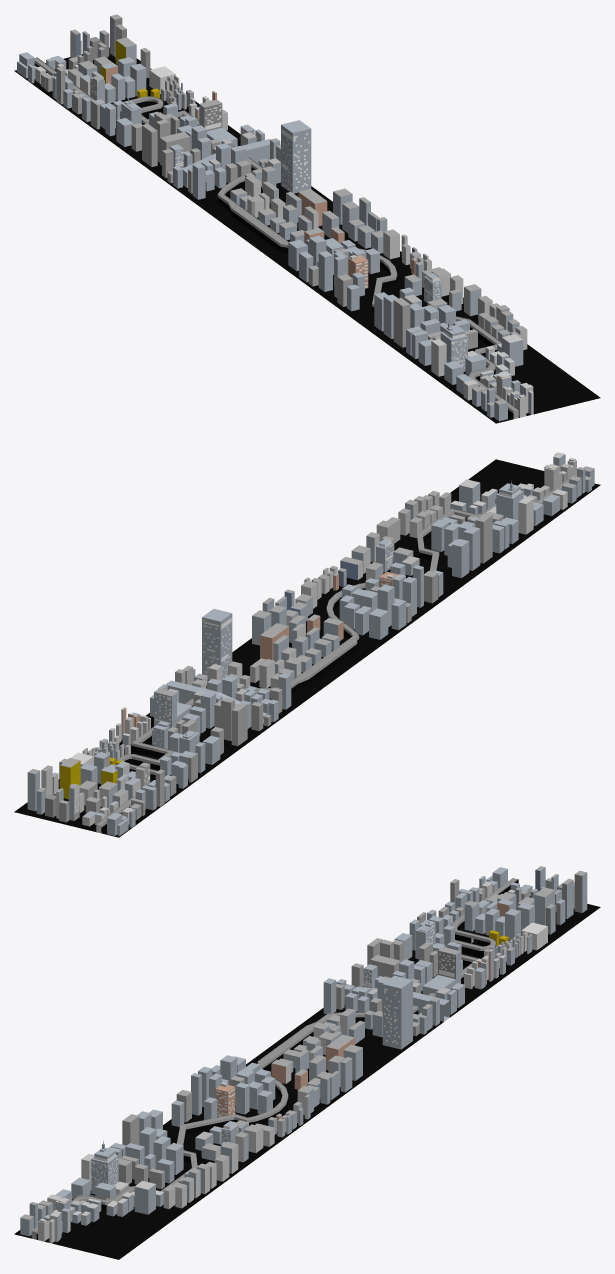
The model's file is map_tokyo.glb.
3 renders of one model, top to bottom at view 1: azimuth 30°, elevation 25°; view 2: azimuth 150°, elevation 25°; view 3: azimuth 330°, elevation 25°, orthographic.
Visible parts, largest first — view 1: Geom3D (×9); view 2: Geom3D (×10); view 3: Geom3D (×8).
Part boxes in pixels (<box>): Geom3D (×9): <box>17,14,600,423</box>; Geom3D (×10): <box>14,452,600,835</box>; Geom3D (×8): <box>14,866,600,1259</box>.
Bounding box in the file's own units: 141419 × 78461 × 1124349.
